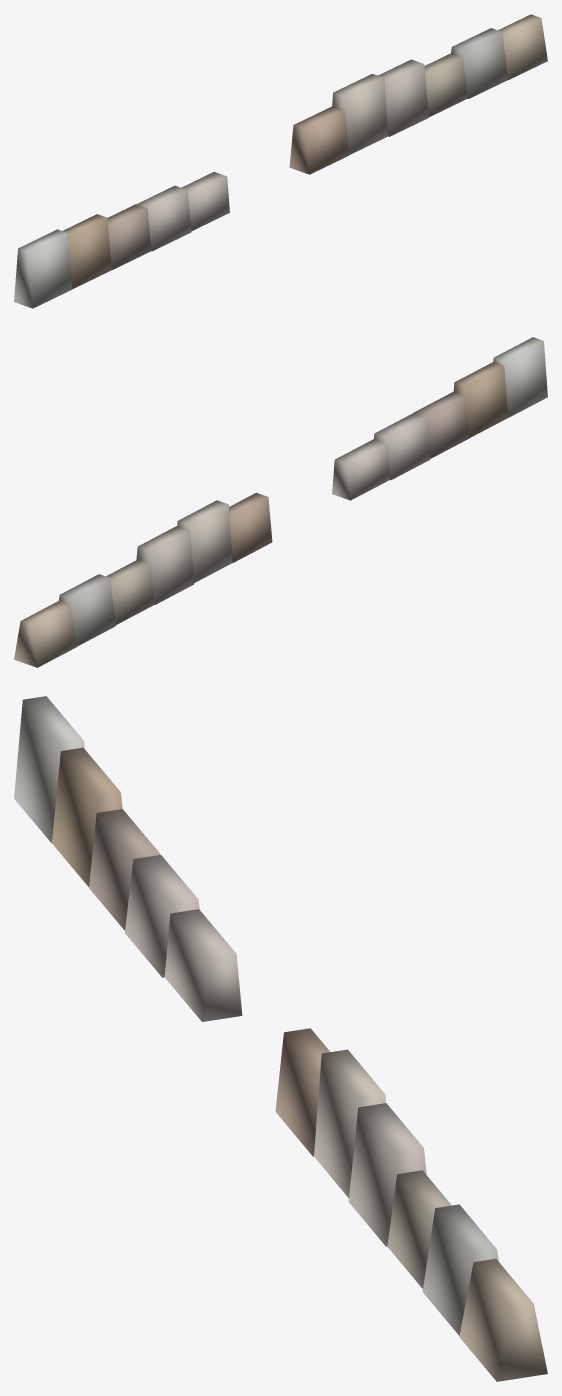
File: farm_25_12_collision.glb
3 renders of one model, top to bottom at view 1: azimuth 30°, elevation 25°; view 2: azimuth 210°, elevation 25°; view 3: azimuth 270°, elevation 25°, orthographic. The views are drawn at different scales.
Visible parts, largest first — view 1: geometry_0; view 2: geometry_0; view 3: geometry_0.
Boxes of the visible parts, bbox=[...] form: geometry_0: bbox=[14, 14, 547, 308]; geometry_0: bbox=[14, 337, 547, 667]; geometry_0: bbox=[14, 696, 547, 1381].
Size of the model in its own units: 18.39 by 1.75 by 7.27.
